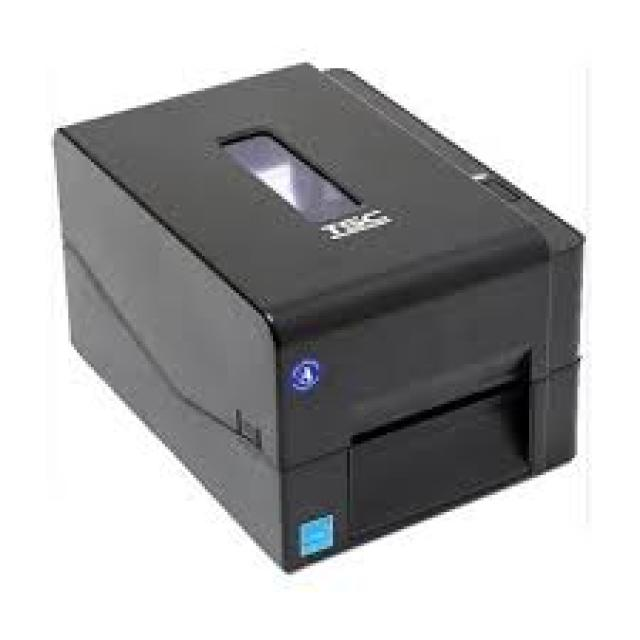printer: (51, 57, 586, 574)
